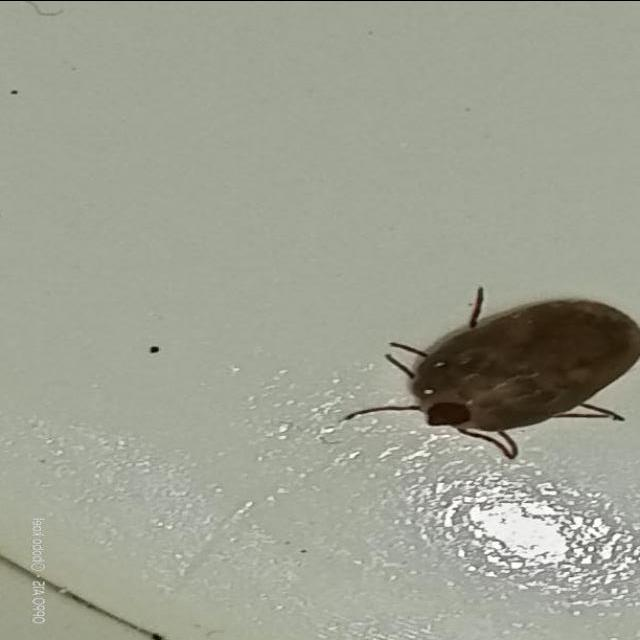Rhipicephalus Sanguineus-F-Fed: (346, 286, 640, 460)
